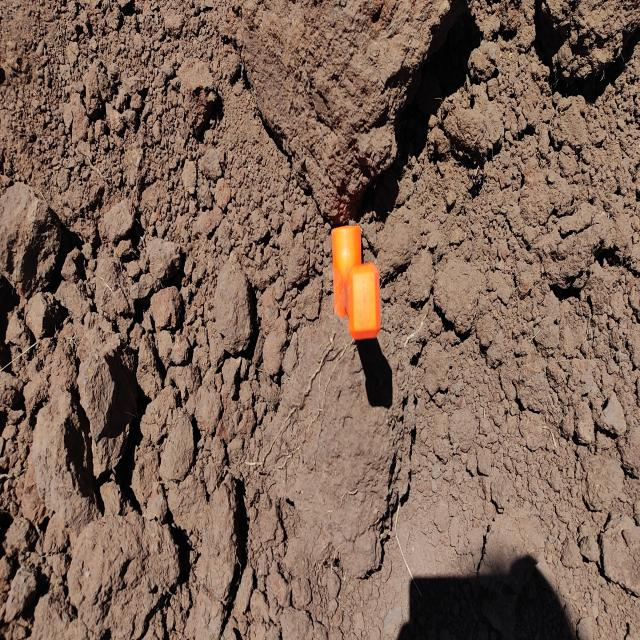Orange_hammer: (331, 224, 381, 342)
